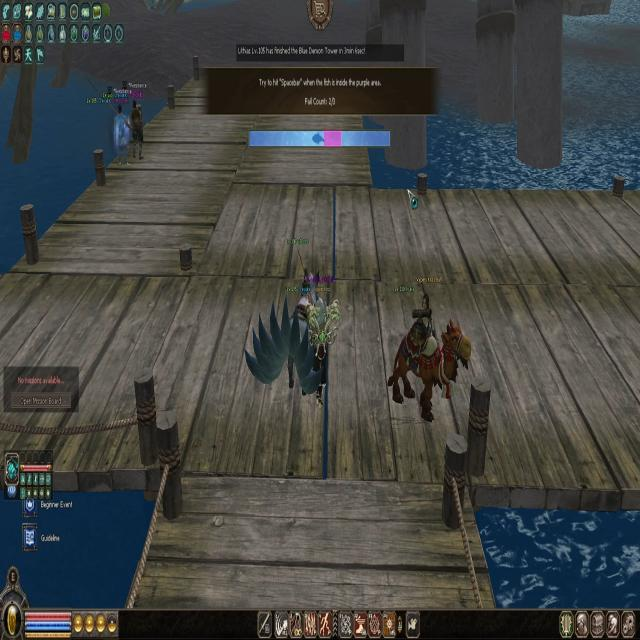box: (324, 131, 341, 147)
fishes: (312, 131, 324, 145)
